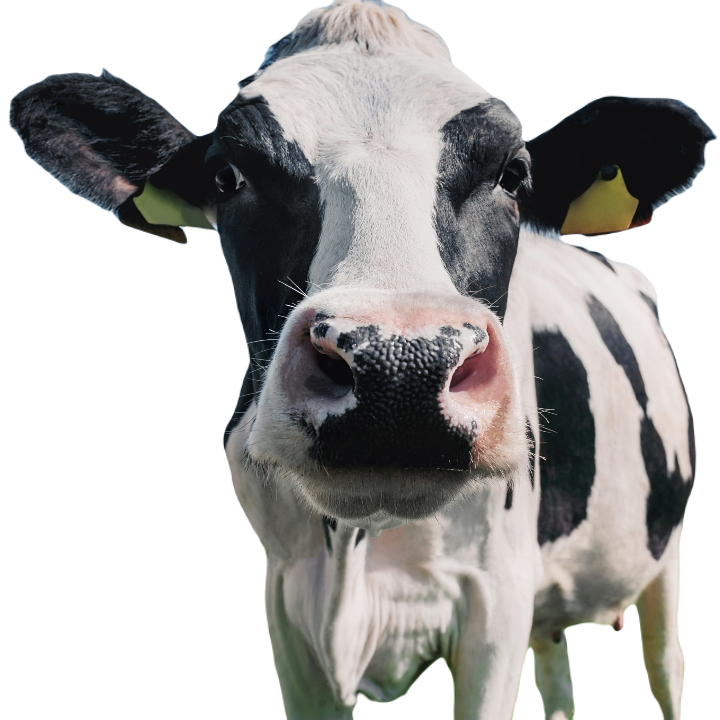Cow: (10, 0, 714, 719)
